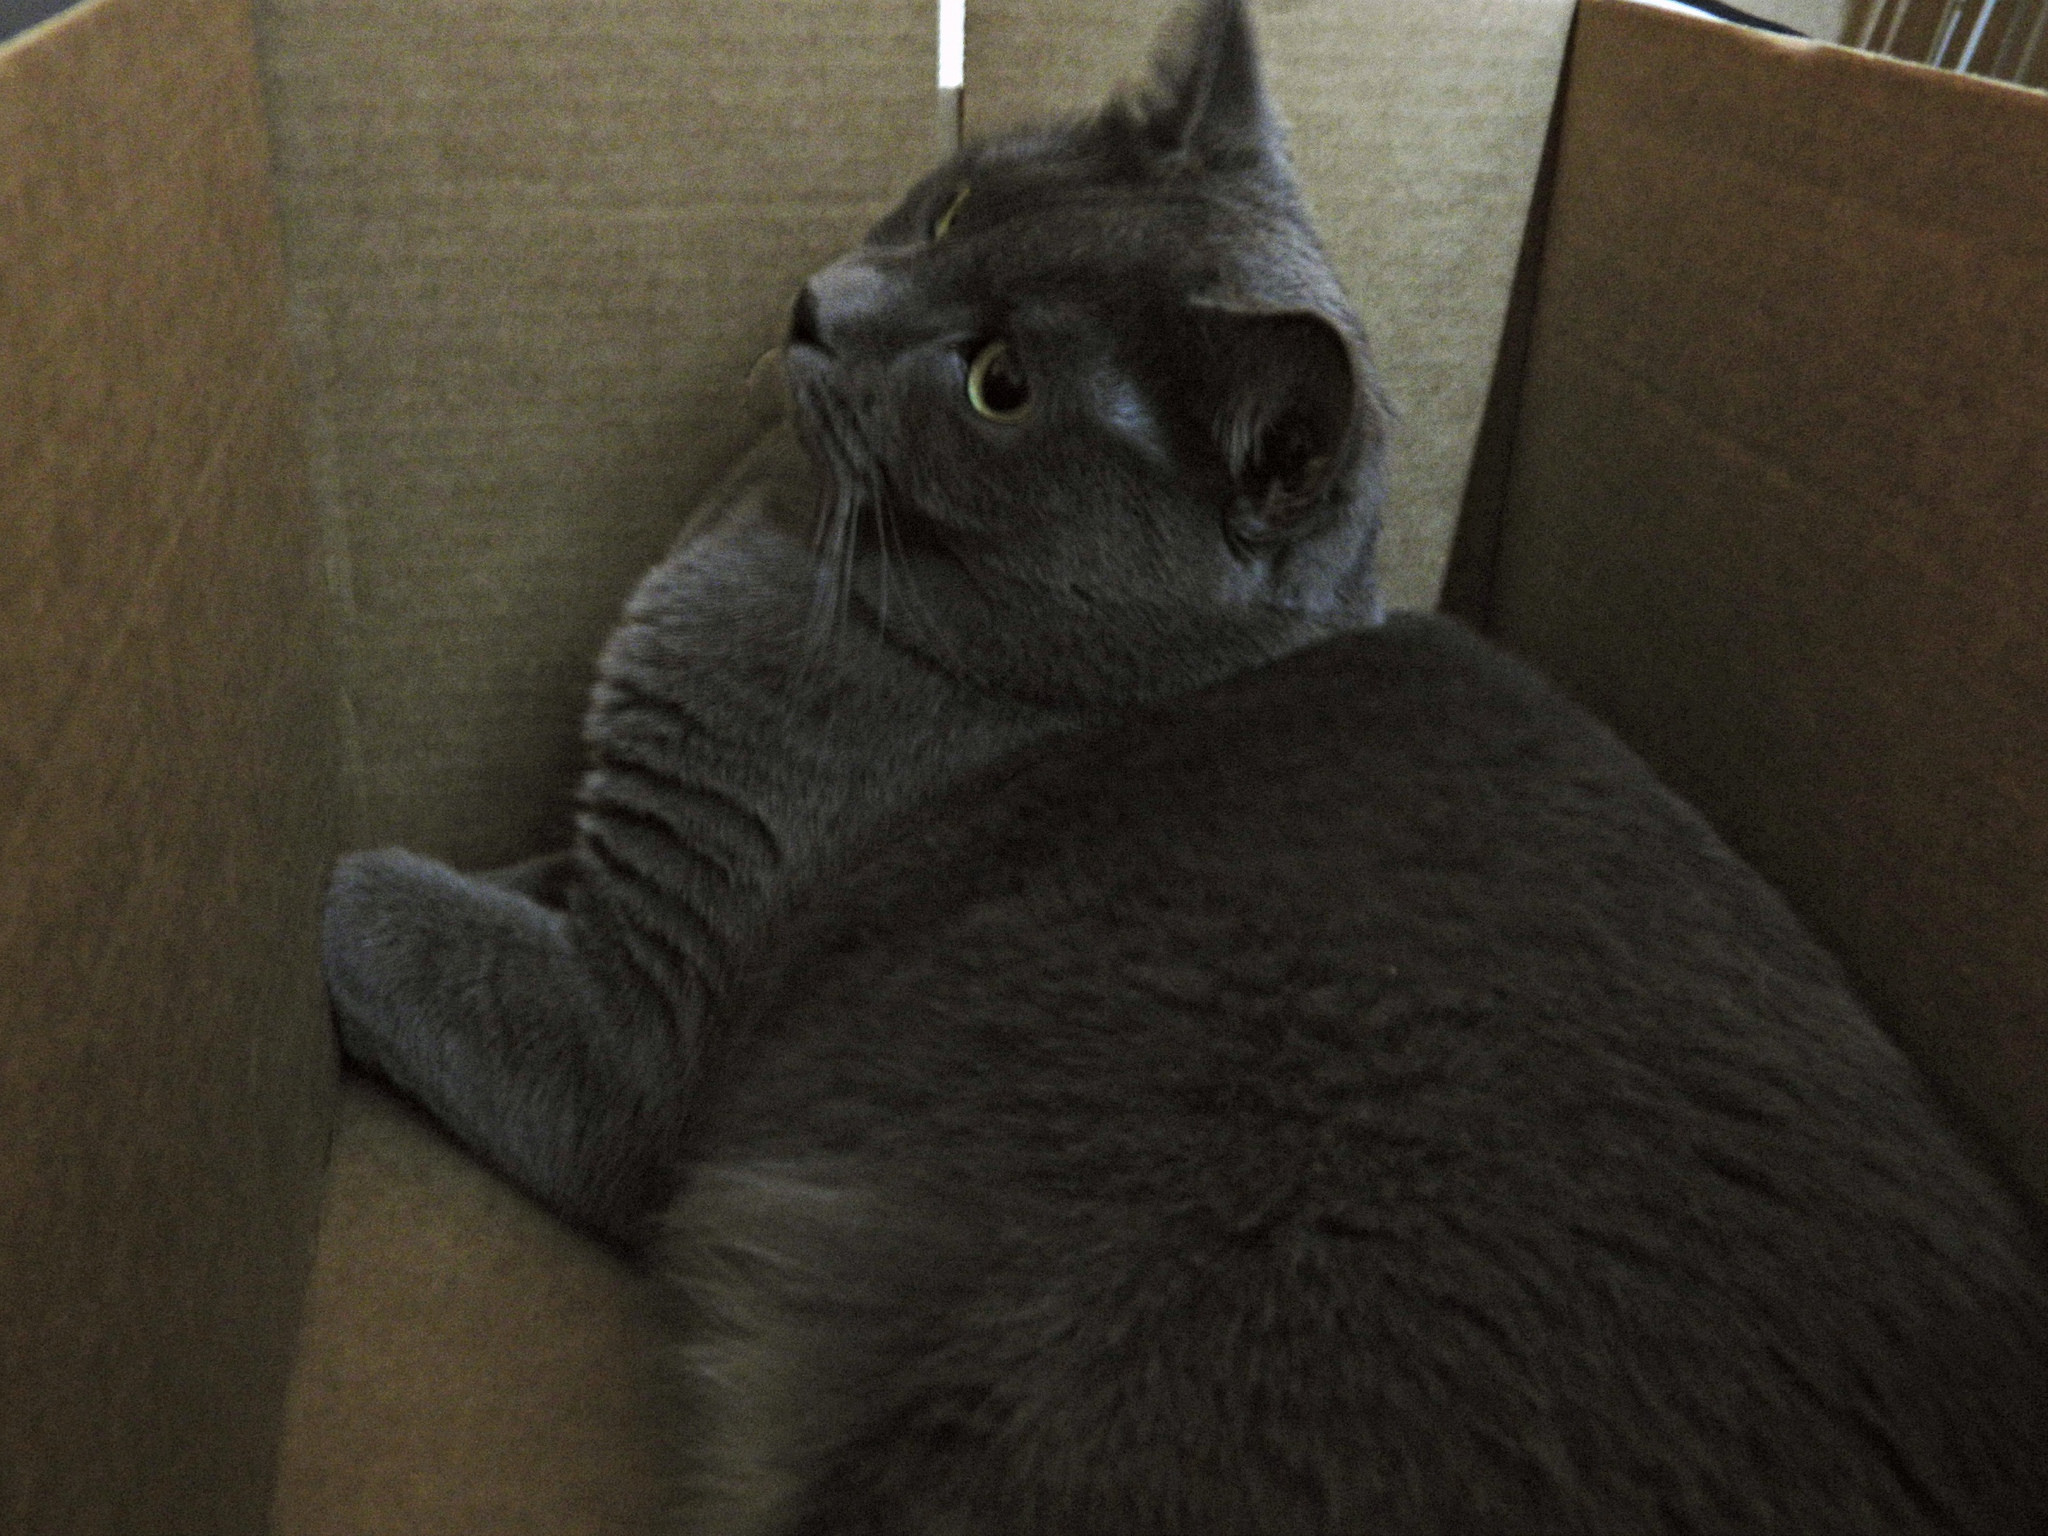Russian_blue: (318, 39, 2013, 1536)
